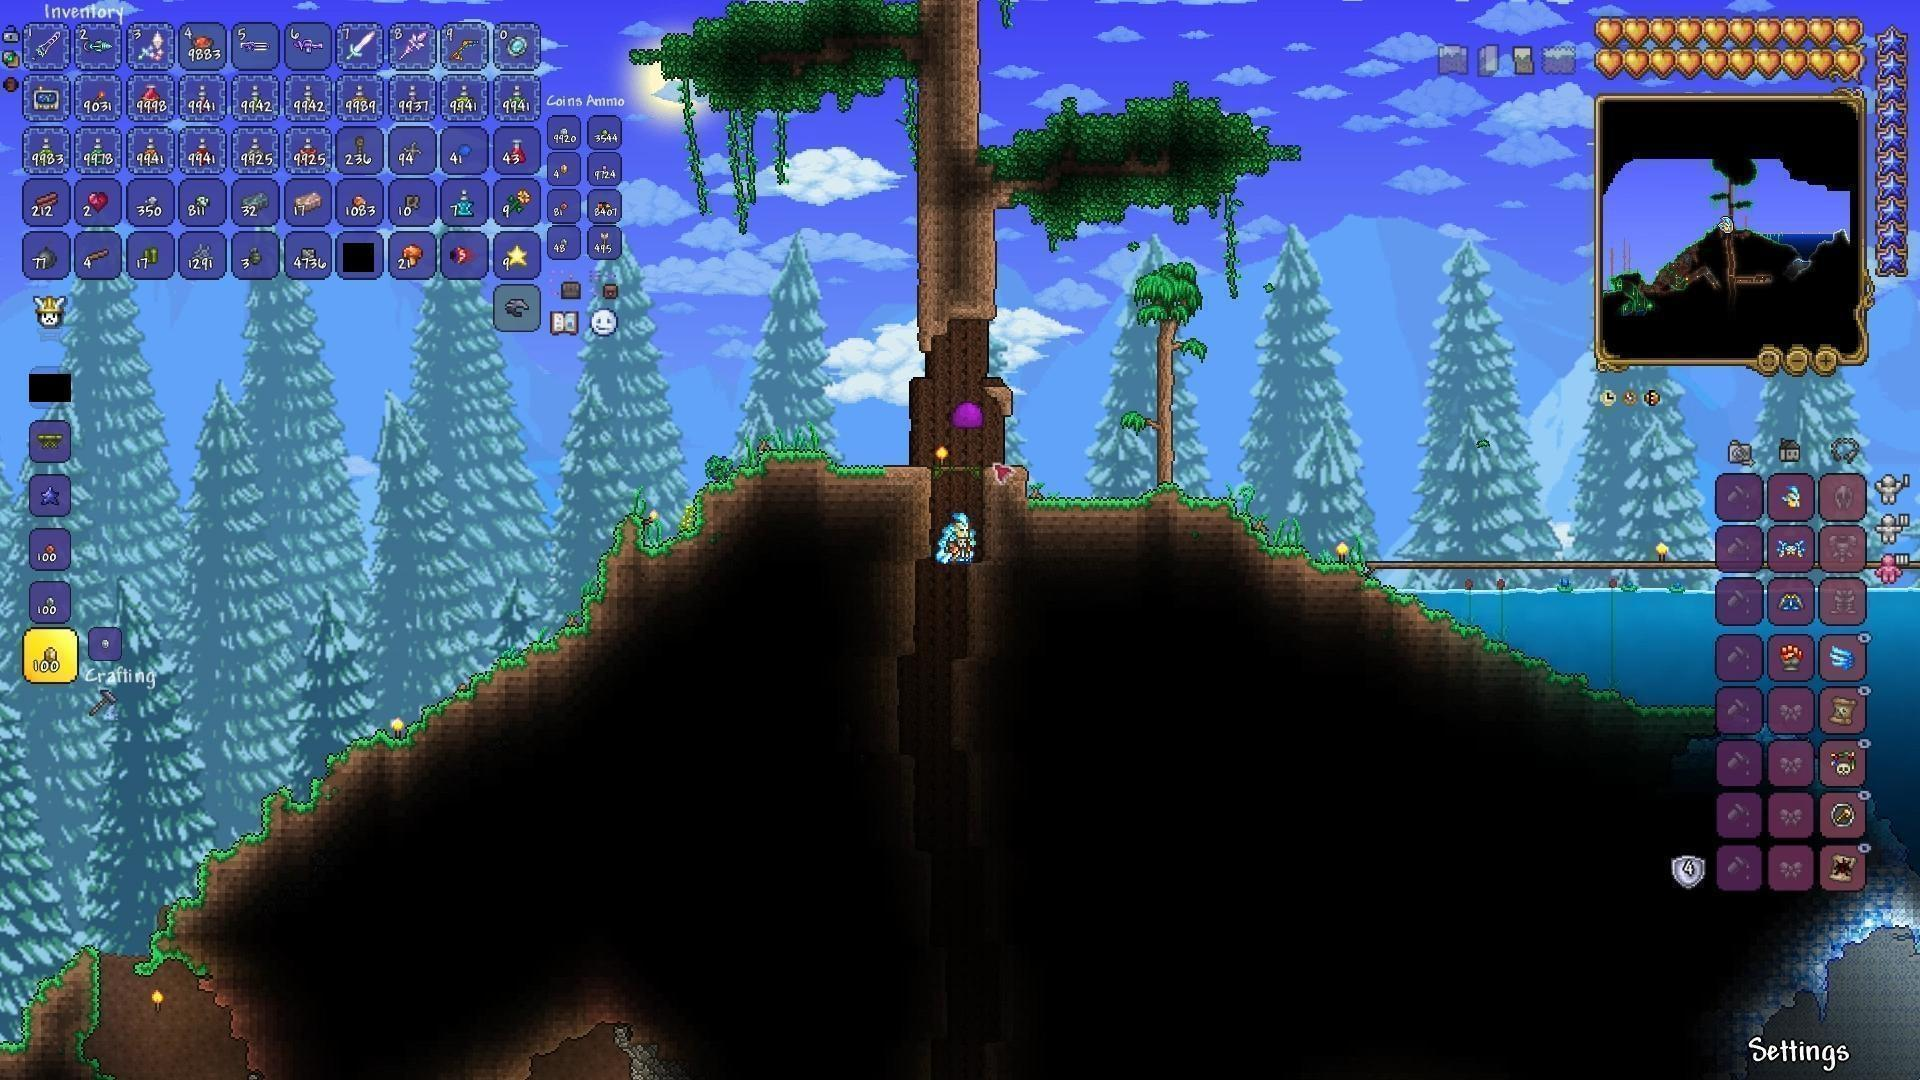helmet: (502, 293, 534, 320)
slime: (949, 400, 986, 433)
wood: (33, 190, 61, 214)
